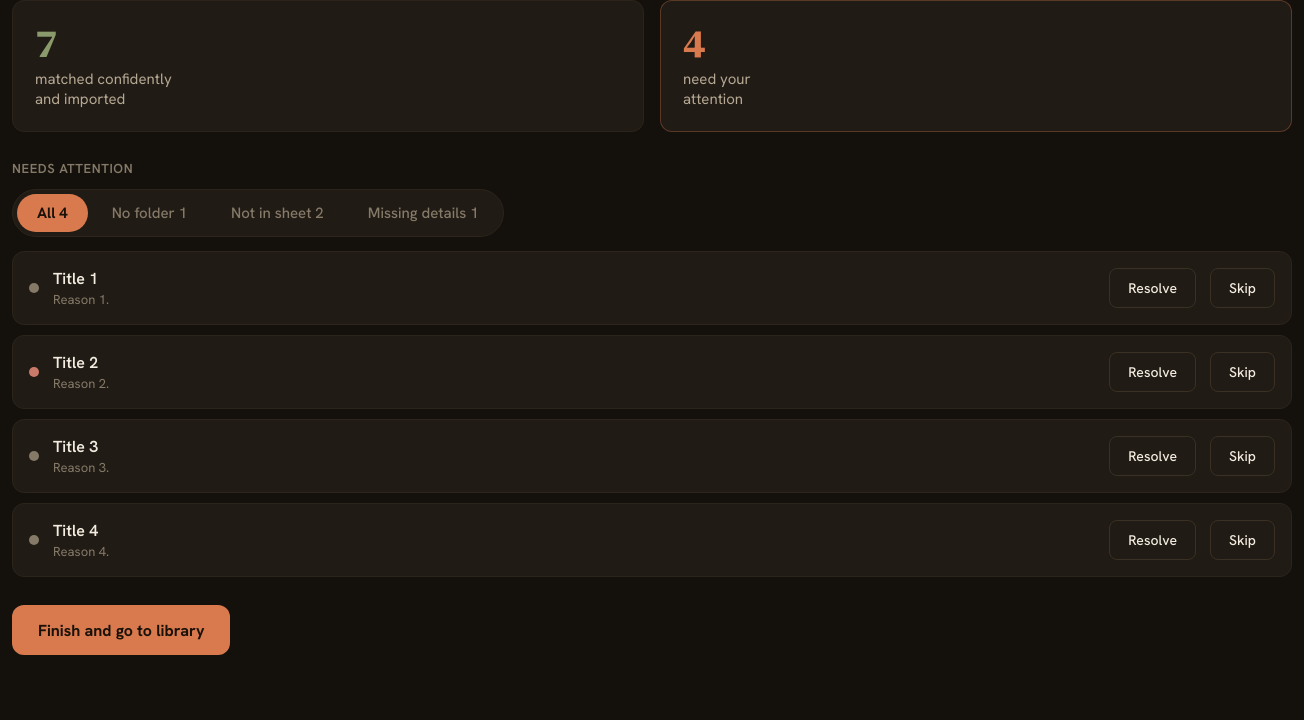
Test: ImportReview — the Kind filter › shows everything again once All is pressed
This screenshot has width=1304, height=720.
Click the button "No folder 1".
click(149, 213)  # box [92, 194, 207, 232]
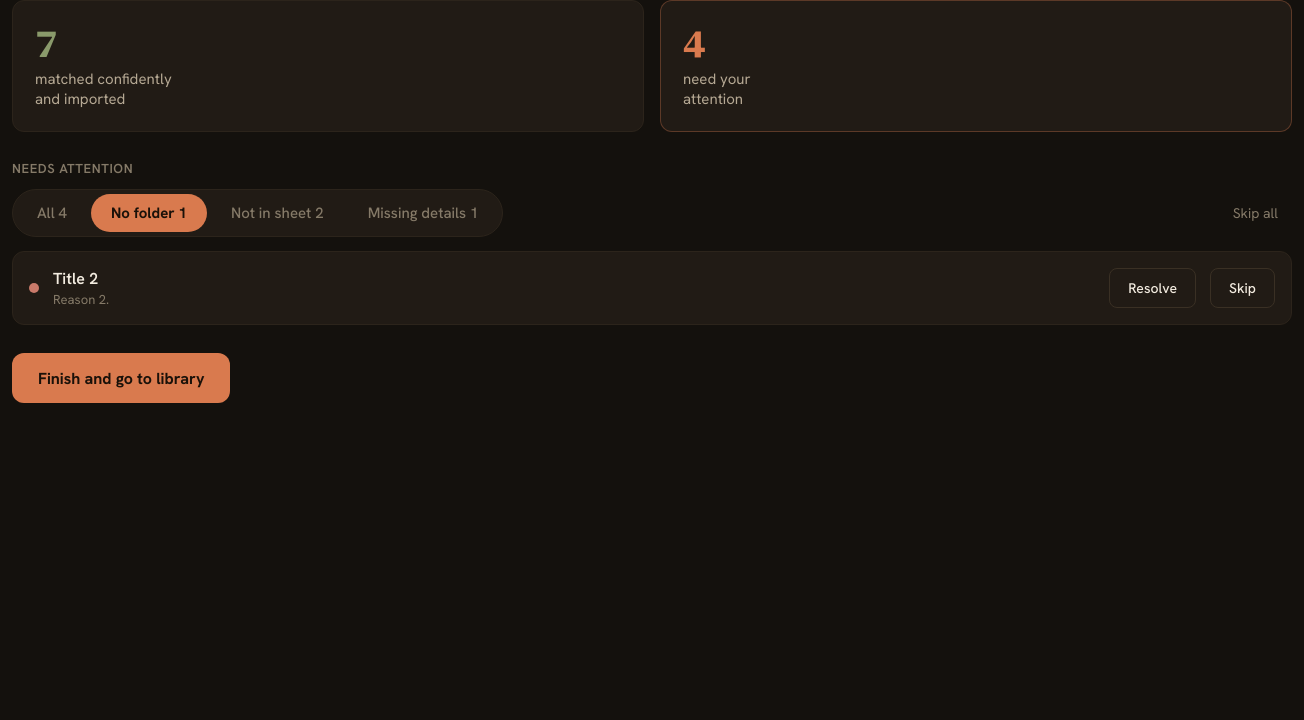
Click the button "All 4".
click(52, 213)  # box [17, 194, 87, 232]
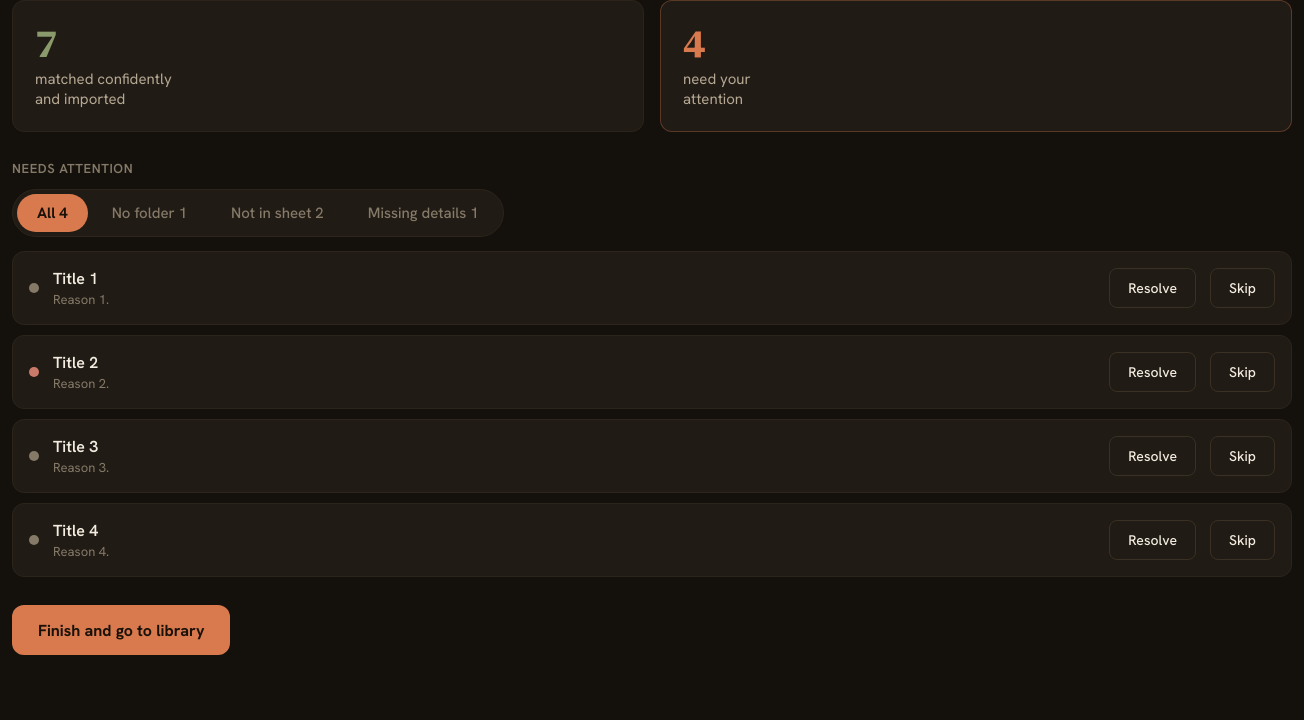
Expected: the text "Reason 1." is shown, [53, 291, 109, 308]
Expected: the text "Reason 3." is shown, [53, 459, 109, 476]
Expected: the text "Reason 4." is shown, [53, 543, 109, 560]
